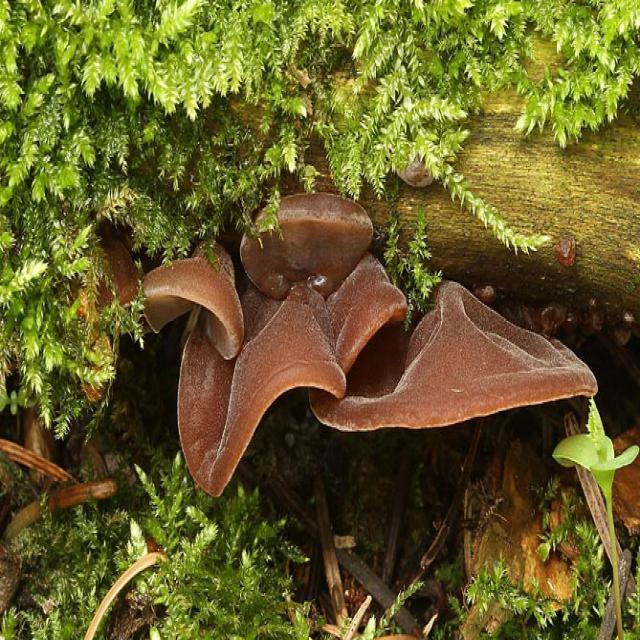Auricularia auricula: (127, 196, 598, 498)
